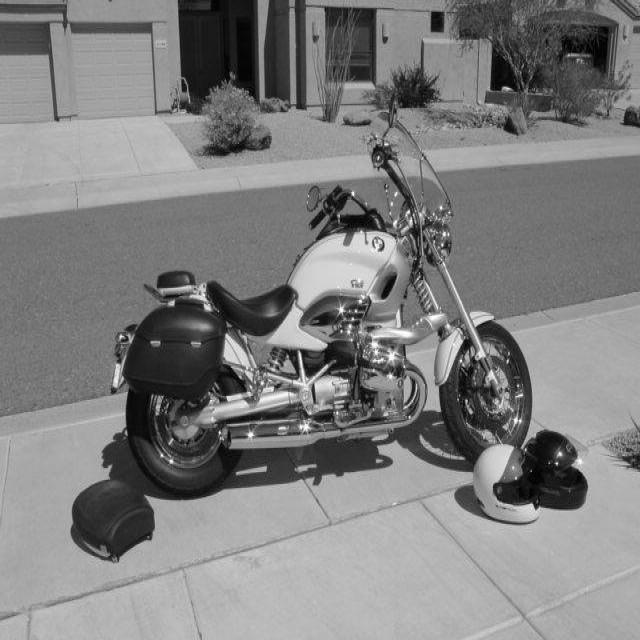Motorcycle: (111, 114, 533, 498)
